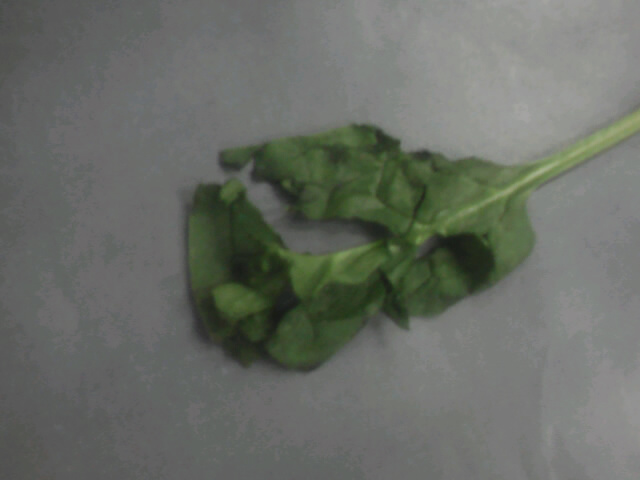yellow: (130, 96, 613, 389)
